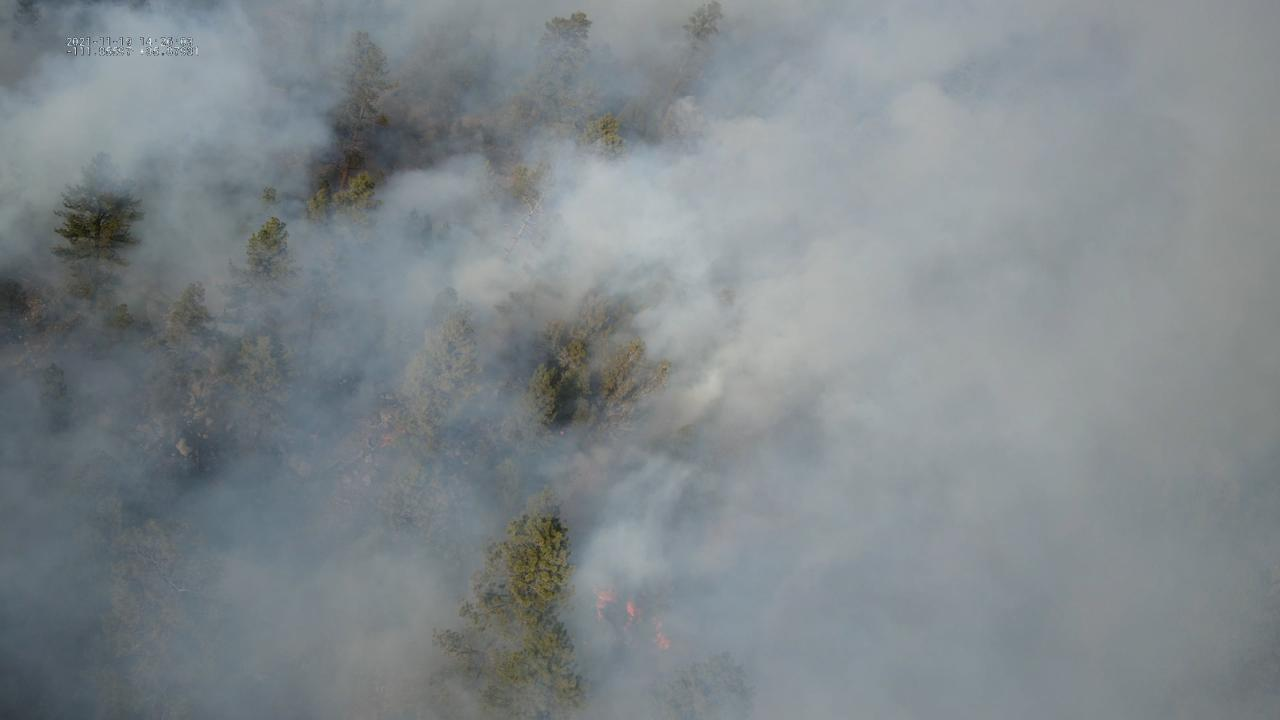fire: (590, 589, 617, 622), (651, 618, 673, 651), (623, 599, 635, 629), (377, 435, 394, 450)
smoke: (0, 0, 1280, 720)
